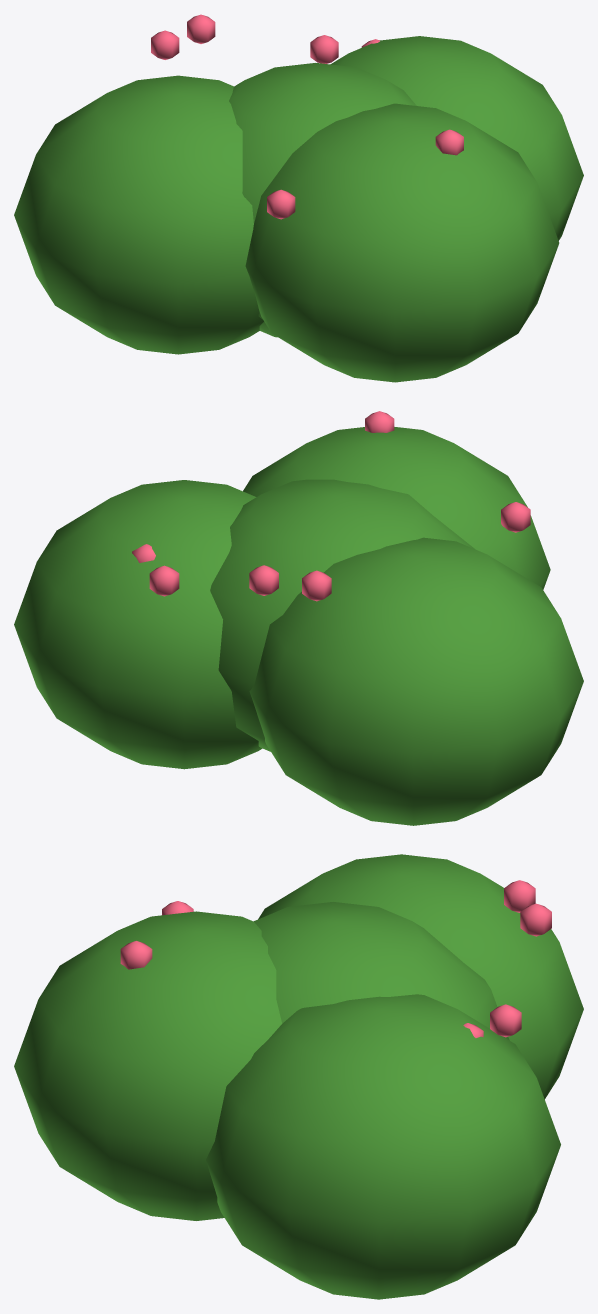
File: bush.glb
3 renders of one model, top to bottom at view 1: azimuth 30°, elevation 25°; view 2: azimuth 150°, elevation 25°; view 3: azimuth 270°, elevation 25°, orthographic. The views are drawn at different scales.
Visible parts, largest first — view 1: bush; view 2: bush; view 3: bush.
Part boxes in pixels (left/top/right/bottom): bush: left=14, top=14, right=583, bottom=382; bush: left=14, top=411, right=583, bottom=825; bush: left=14, top=854, right=583, bottom=1299.
Bounding box in the file's own units: 2.9 × 1.43 × 2.5.
